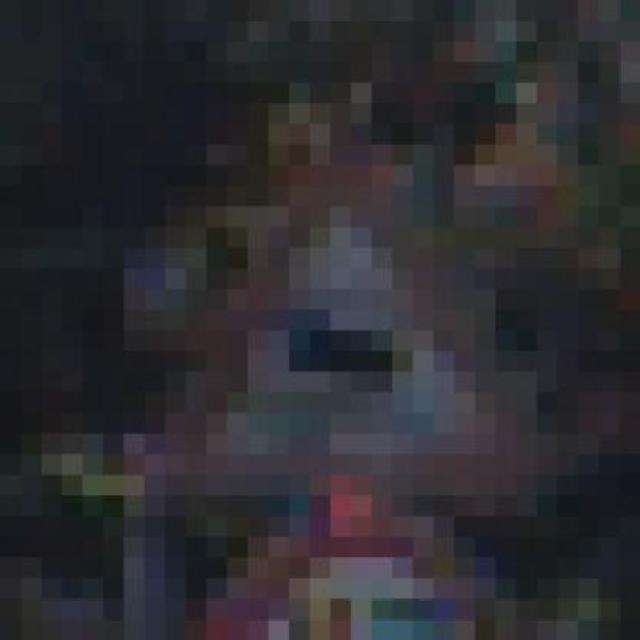Slippery Road Ahead: (123, 103, 537, 517)
